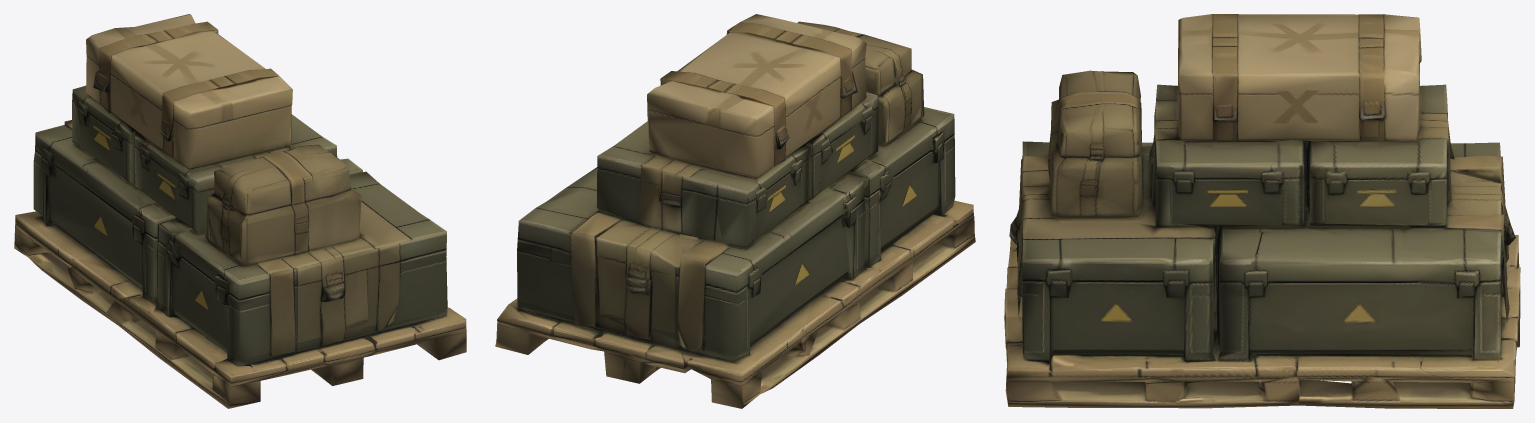
Rendered from military_supply.fbx.
3 renders of one model, left to right at view 1: azimuth 30°, elevation 25°; view 2: azimuth 150°, elevation 25°; view 3: azimuth 270°, elevation 25°, orthographic. The views are drawn at different scales.
Visible parts, largest first — view 1: tripo_node_71ef675f; view 2: tripo_node_71ef675f; view 3: tripo_node_71ef675f.
Part boxes in pixels (x1,y1,x2,y2): tripo_node_71ef675f: (14,14,466,408); tripo_node_71ef675f: (495,14,975,408); tripo_node_71ef675f: (1004,14,1520,408).
Bounding box in the file's own units: 0.6113 × 0.5858 × 0.9789.
